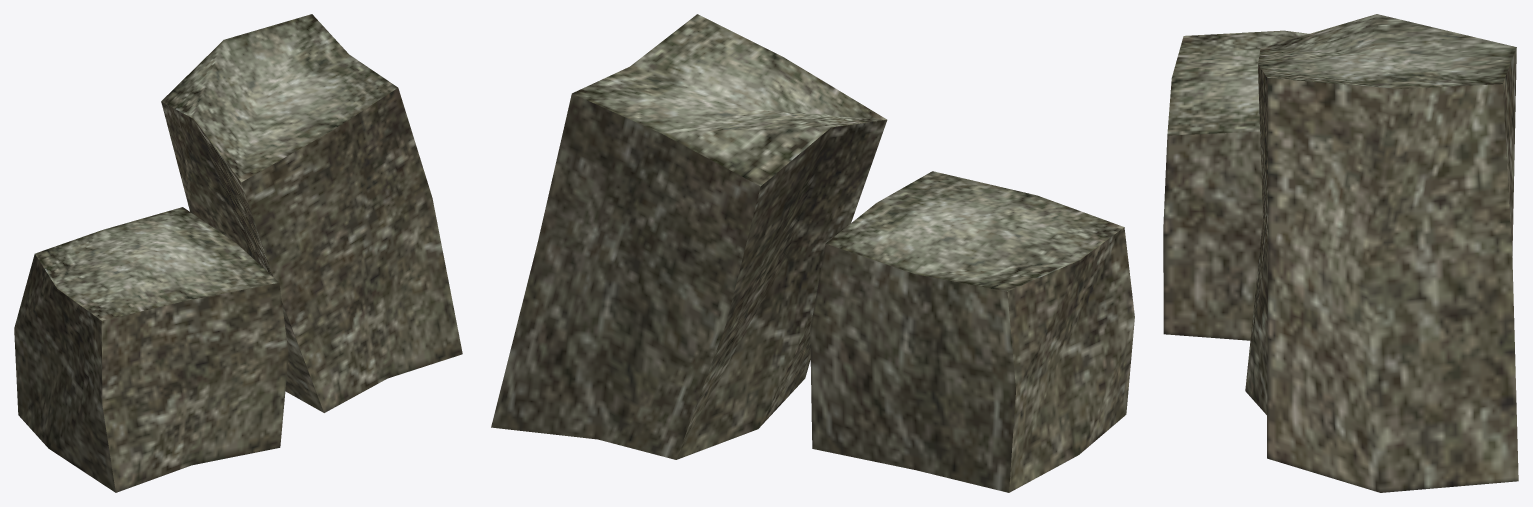
The model's file is ob-bigstone04.fbx.
3 renders of one model, left to right at view 1: azimuth 30°, elevation 25°; view 2: azimuth 150°, elevation 25°; view 3: azimuth 270°, elevation 25°, orthographic. The views are drawn at different scales.
Parts seen in each view (by area): view 1: Box01; view 2: Box01; view 3: Box01.
Boxes of the visible parts, x1,y1,x2,y2 form: Box01: (14, 14, 462, 492); Box01: (491, 14, 1134, 492); Box01: (1163, 14, 1518, 492).
Bounding box in the file's own units: 5.46 × 3.7 × 3.27.
